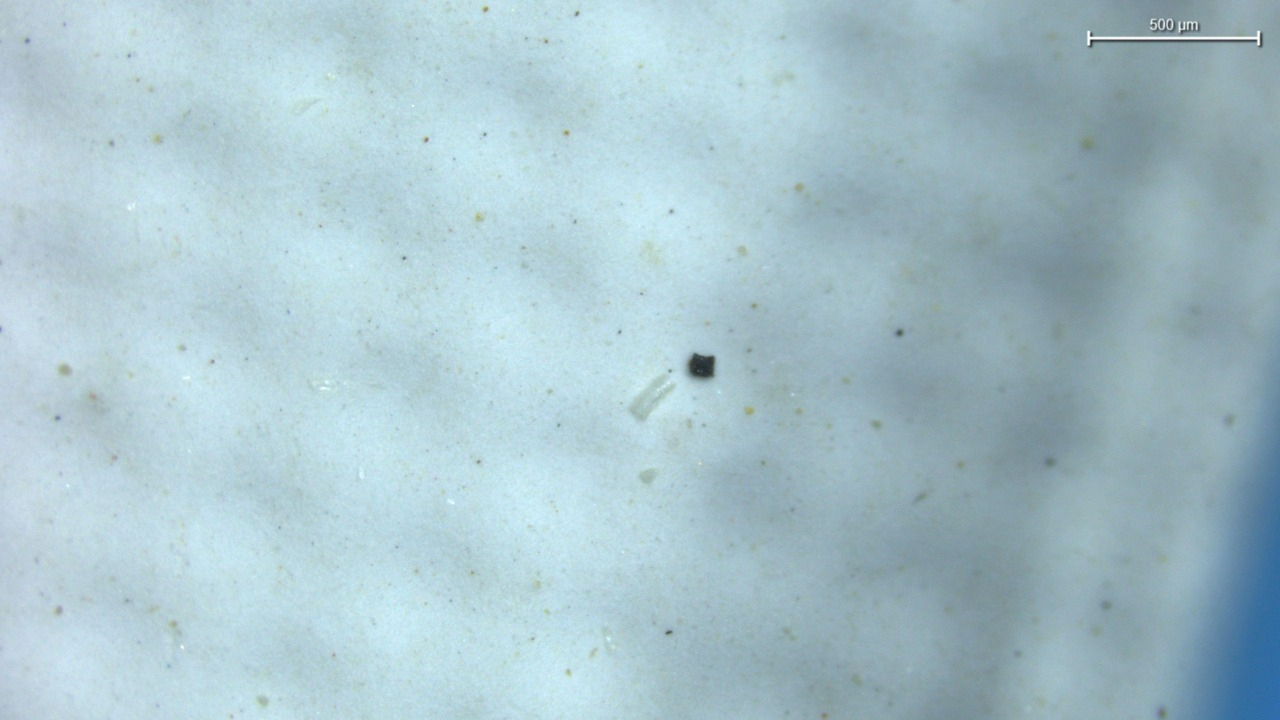microplastic_fragment: (629, 373, 675, 421), (688, 353, 715, 378)
